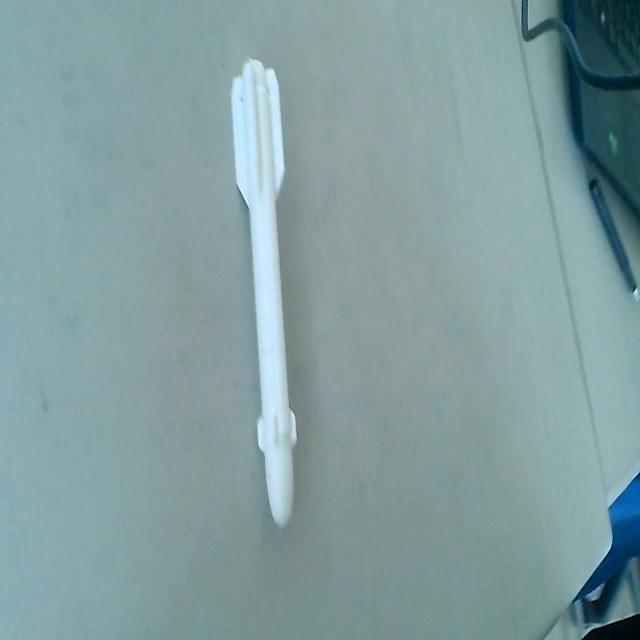Rocket: (228, 55, 303, 530)
